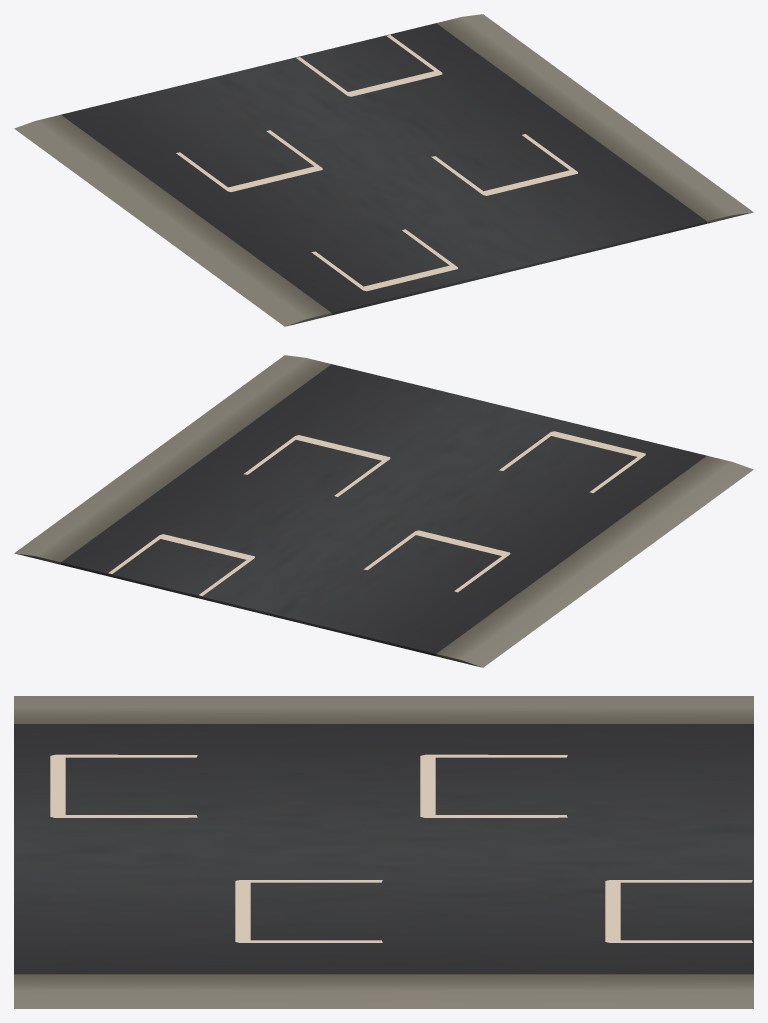
The model's file is Straight_1C.fbx.
3 views of the same model, one above another, from view 1: azimuth 30°, elevation 25°; view 2: azimuth 150°, elevation 25°; view 3: azimuth 270°, elevation 25° (orthographic). The views are drawn at different scales.
Parts seen in each view (by area): view 1: Straight_1C; view 2: Straight_1C; view 3: Straight_1C.
Boxes of the visible parts, x1=… form: Straight_1C: x1=14, y1=14, x2=753, y2=326; Straight_1C: x1=14, y1=355, x2=753, y2=667; Straight_1C: x1=14, y1=696, x2=753, y2=1008.
Size of the model in its own units: 2000 by 10.65 by 2000.
